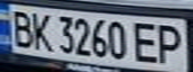0: (106, 18, 130, 61)
2: (72, 15, 93, 57)
3: (51, 12, 75, 55)
6: (90, 16, 109, 60)
B: (6, 7, 36, 48)
E: (130, 19, 163, 64)
K: (27, 9, 54, 52)
P: (151, 21, 190, 65)
